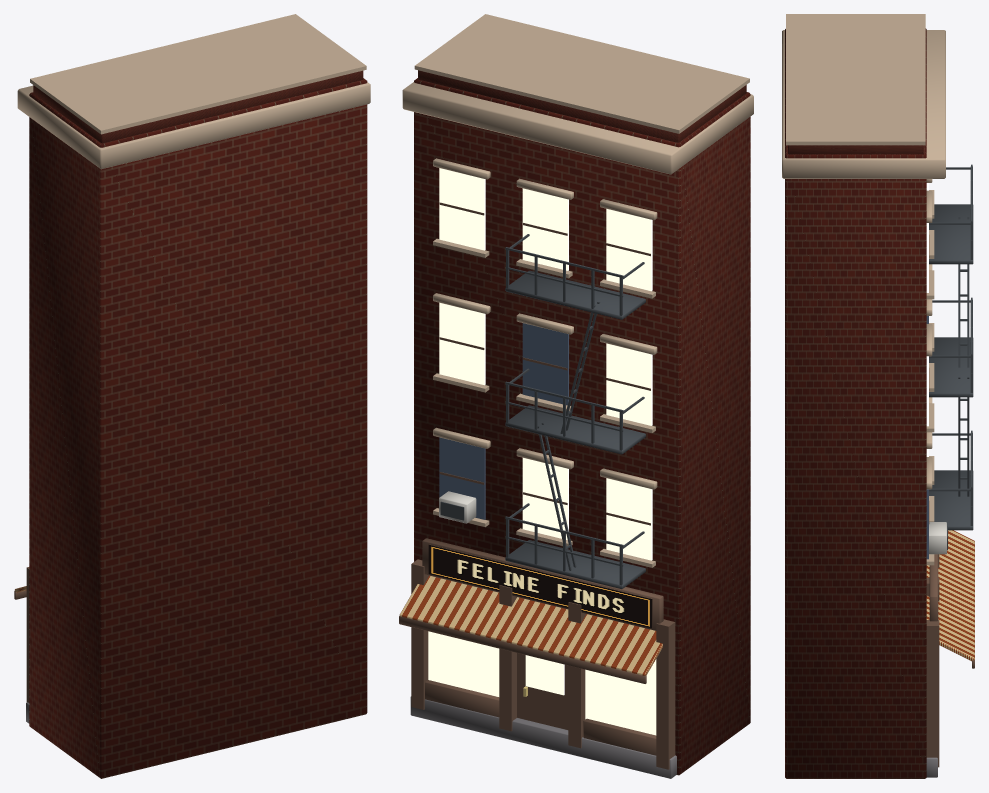
The model's file is building_brick_fireescape.glb.
The picture shows the model from 3 angles, left to right: view 1: azimuth 30°, elevation 25°; view 2: azimuth 150°, elevation 25°; view 3: azimuth 270°, elevation 25°; orthographic projection.
Parts seen in each view (by area): view 1: Building_Brick_FireEscape; view 2: Building_Brick_FireEscape; view 3: Building_Brick_FireEscape.
Boxes of the visible parts, box(x1,y1,x2,y2) form: Building_Brick_FireEscape: box(14, 14, 370, 778); Building_Brick_FireEscape: box(399, 14, 753, 778); Building_Brick_FireEscape: box(782, 14, 974, 778).
Size of the model in its own units: 6.08 by 13.9 by 3.81.
11 materials, 3 textured.
